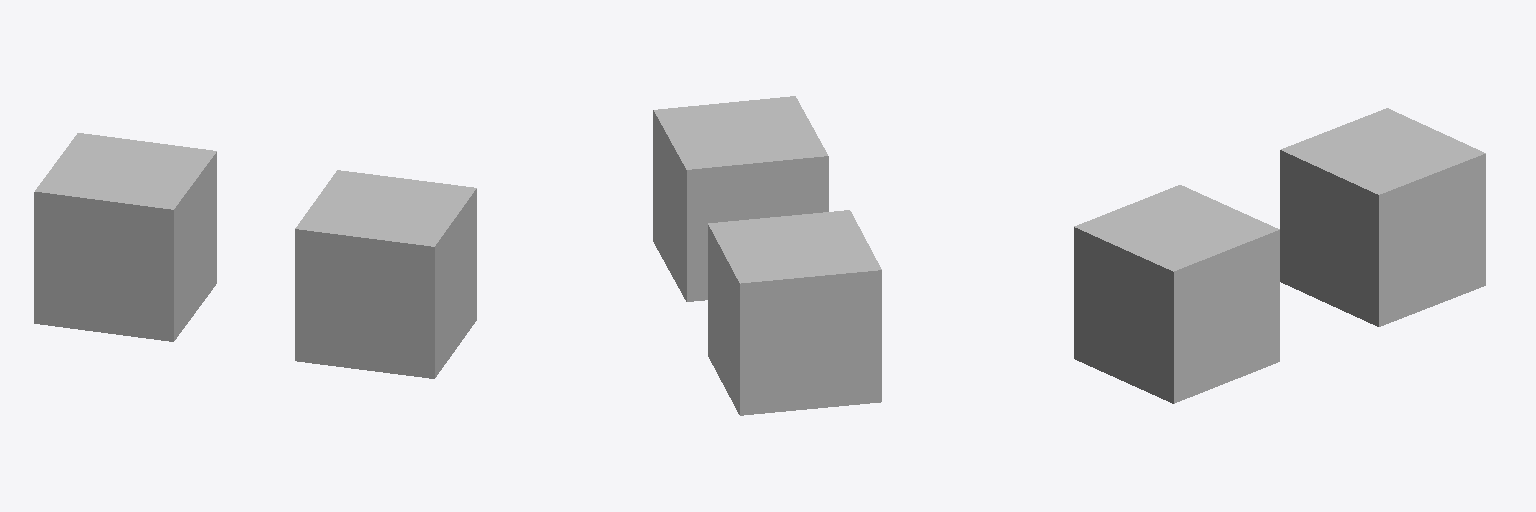
Rendered from TwoCube.obj.
3 renders of one model, left to right at view 1: azimuth 30°, elevation 25°; view 2: azimuth 150°, elevation 25°; view 3: azimuth 270°, elevation 25°, orthographic.
Parts seen in each view (by area): view 1: Cube.001_Cube.017, Cube_Cube.016; view 2: Cube.001_Cube.017, Cube_Cube.016; view 3: Cube_Cube.016, Cube.001_Cube.017.
Boxes of the visible parts, <box> form: Cube.001_Cube.017: <box>34,133,216,341</box>; Cube_Cube.016: <box>295,170,476,378</box>; Cube.001_Cube.017: <box>708,210,881,415</box>; Cube_Cube.016: <box>653,96,828,301</box>; Cube_Cube.016: <box>1074,185,1279,403</box>; Cube.001_Cube.017: <box>1280,108,1485,326</box>.
Size of the model in its own units: 5.31 by 2 by 5.65.